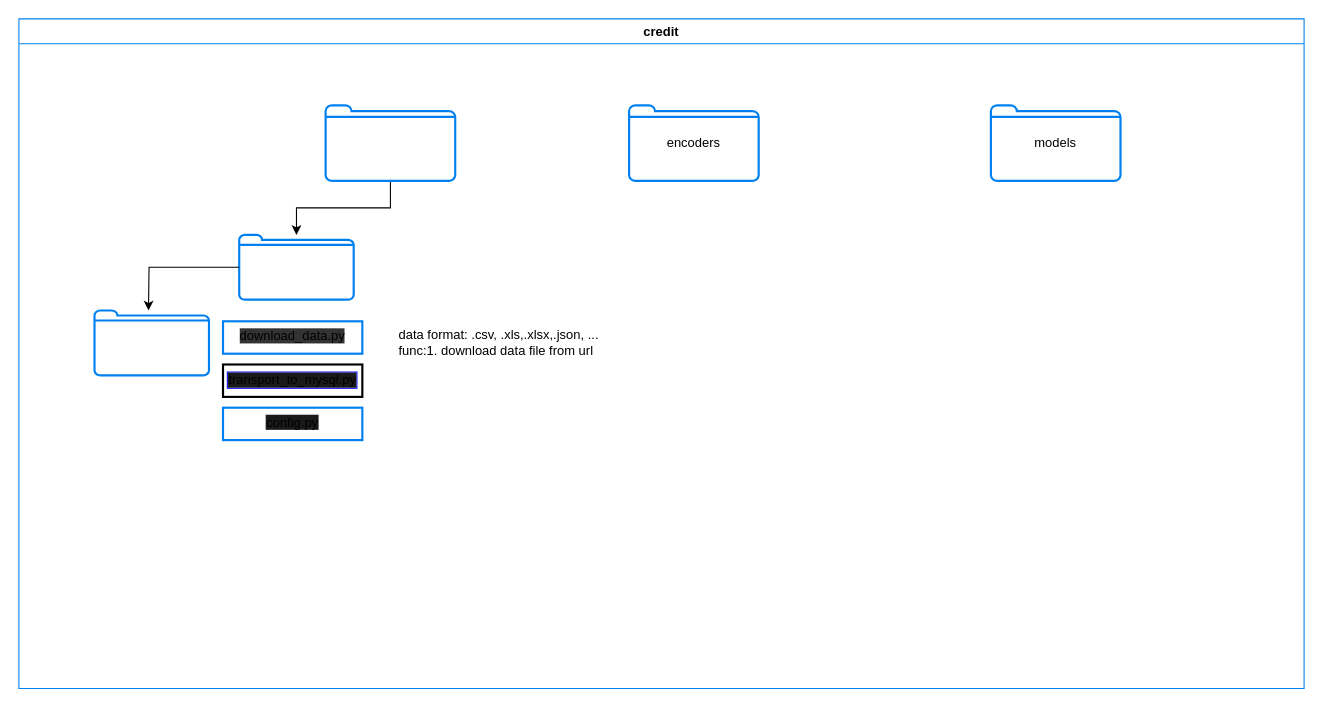
This 1323x707 diagram has some shape labels left out. Here are the shapes that lost their labels. From the top down, the centre of each, then its label:
At [390,142]: "datasets".
At [296,266]: "data_name".
At [151,342]: "resource".
